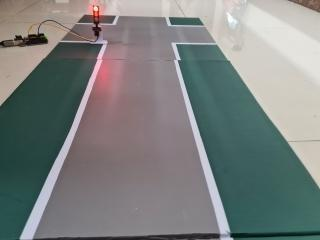red: (90, 4, 103, 29)
